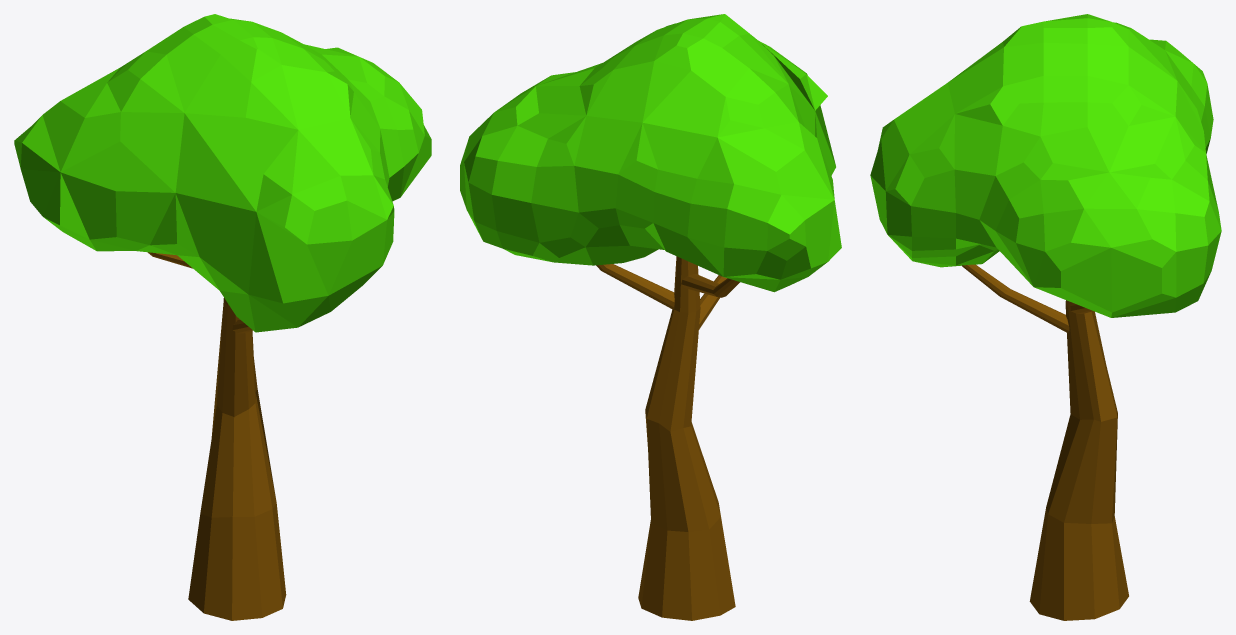
File: Tree1.fbx
3 renders of one model, left to right at view 1: azimuth 30°, elevation 25°; view 2: azimuth 150°, elevation 25°; view 3: azimuth 270°, elevation 25°, orthographic.
Visible parts, largest first — view 1: Cylinder.001, Cylinder; view 2: Cylinder.001, Cylinder; view 3: Cylinder.001, Cylinder.
Part boxes in pixels (<box>): Cylinder.001: <box>14,14,431,332</box>; Cylinder: <box>148,252,286,620</box>; Cylinder.001: <box>460,14,841,292</box>; Cylinder: <box>596,256,739,620</box>; Cylinder.001: <box>870,14,1221,317</box>; Cylinder: <box>962,264,1128,620</box>.
Size of the model in its own units: 381 by 593 by 329.
